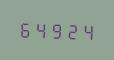four: (78, 20, 92, 41), (33, 19, 47, 39)
nine: (48, 19, 62, 40)
six: (18, 18, 32, 39)
two: (63, 20, 77, 40)
